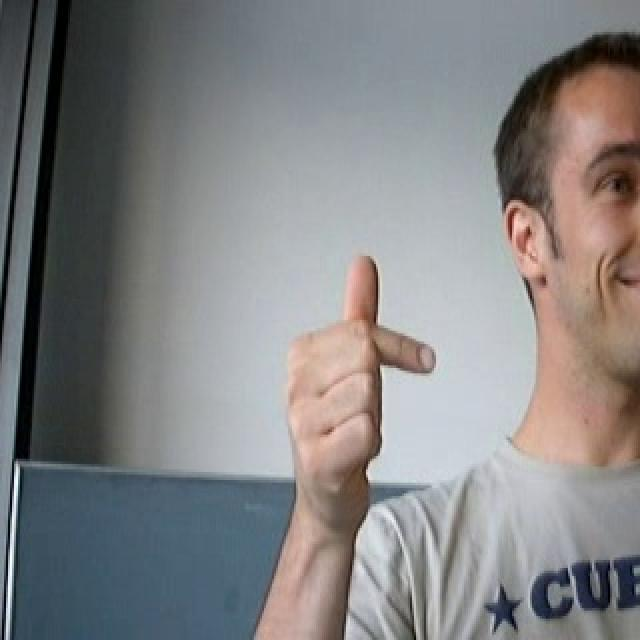T: (279, 246, 444, 540)
